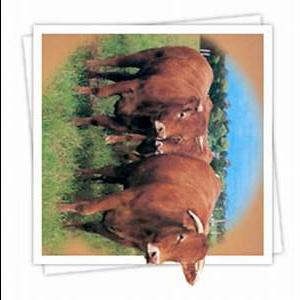cow: (55, 150, 221, 286), (56, 42, 215, 158)
